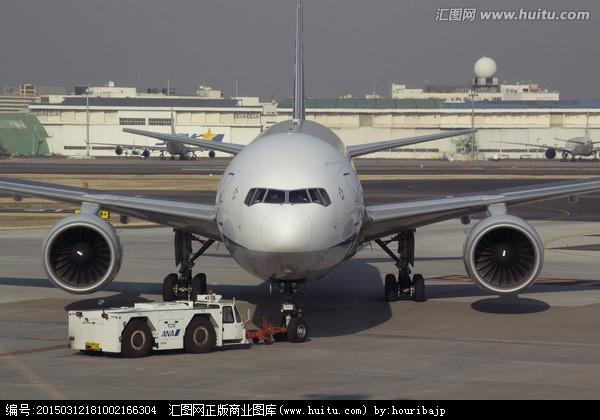airplane: (23, 1, 598, 300)
